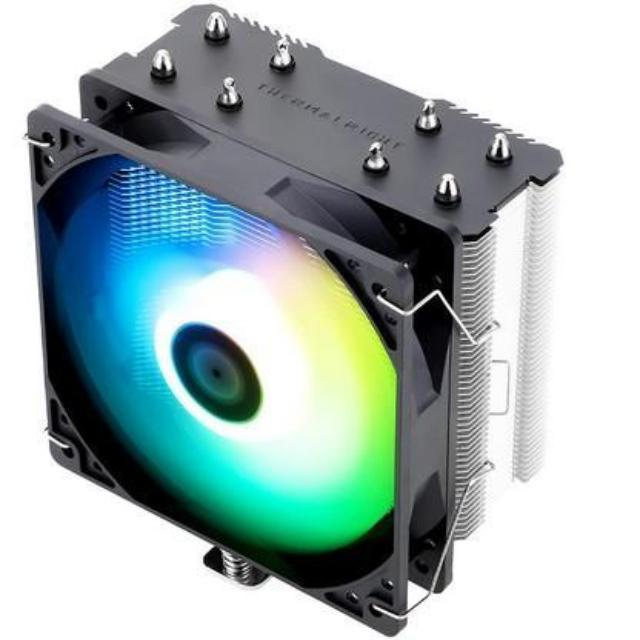CPU_Fan: (29, 0, 566, 640)
